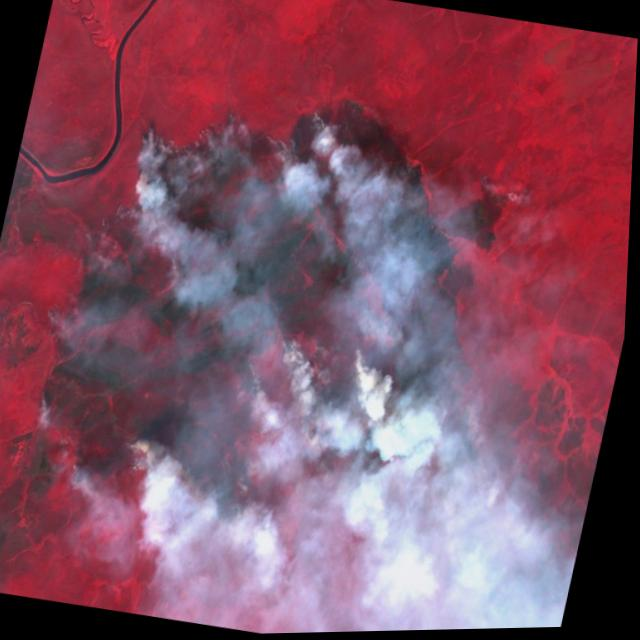fire: (0, 37, 570, 590)
